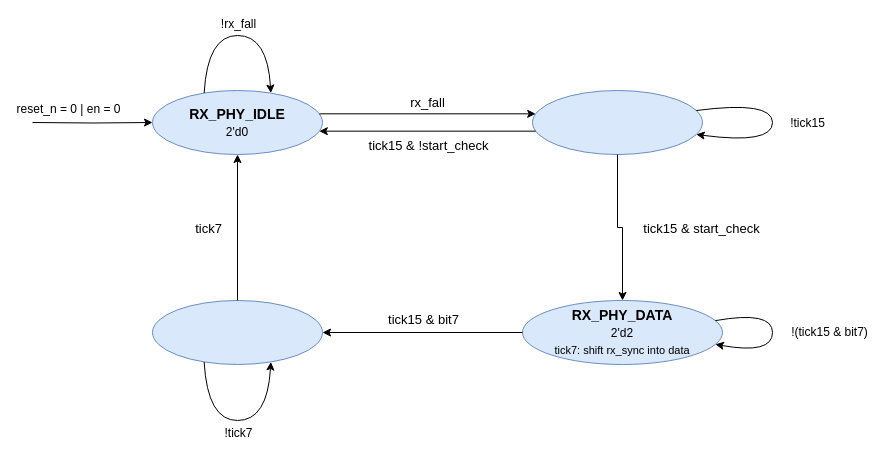
Some shapes in this 885 by 457 pixel diagram are drawn without their labels. Each missing label, with the centre of its shape:
"RX_PHY_START 2'd1 3 samples of rx_sync" belongs at point 617,122.
"RX_PHY_STOP 2'd3 tick7: done = 1" belongs at point 237,332.
